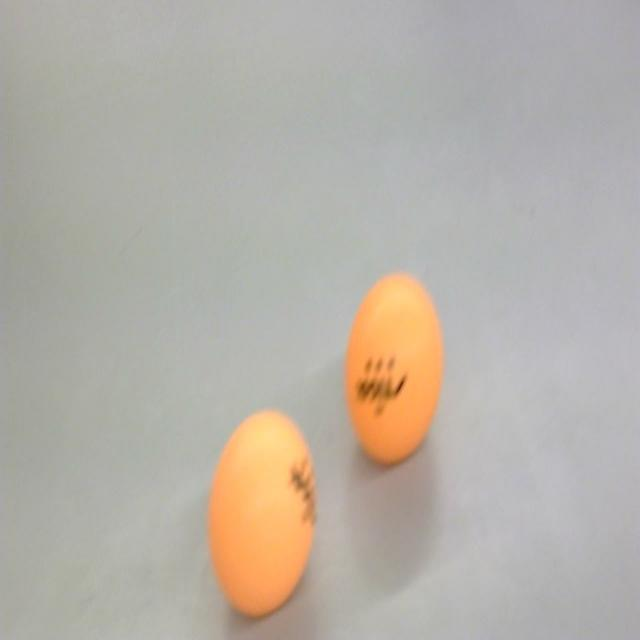ball: (208, 408, 320, 617), (346, 270, 446, 471)
